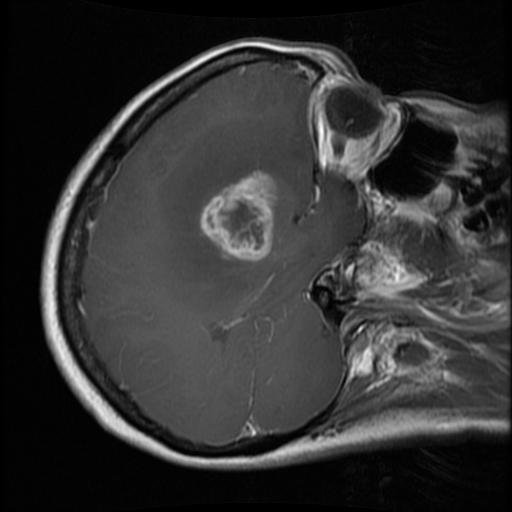glioma: (198, 170, 275, 264)
